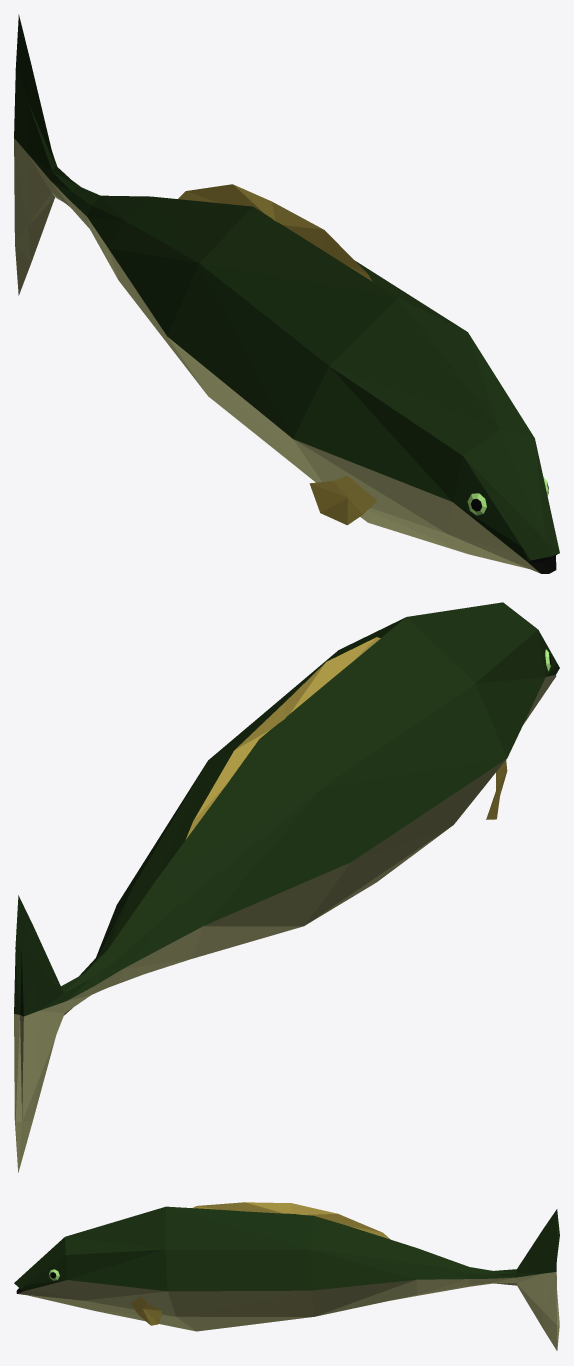
File: Minnow_000017.obj
3 renders of one model, top to bottom at view 1: azimuth 30°, elevation 25°; view 2: azimuth 150°, elevation 25°; view 3: azimuth 270°, elevation 25°, orthographic. The views are drawn at different scales.
Size of the model in its own units: 0.676 by 0.9146 by 3.05.
